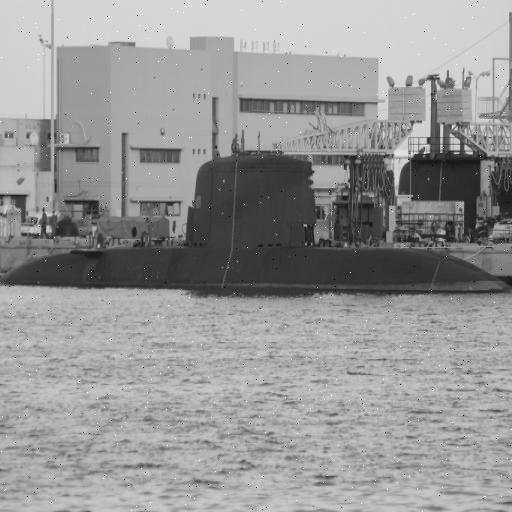submarine: (1, 148, 512, 297)
